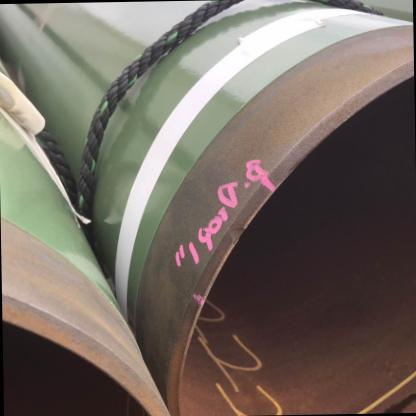Bevel: (220, 217, 252, 245)
